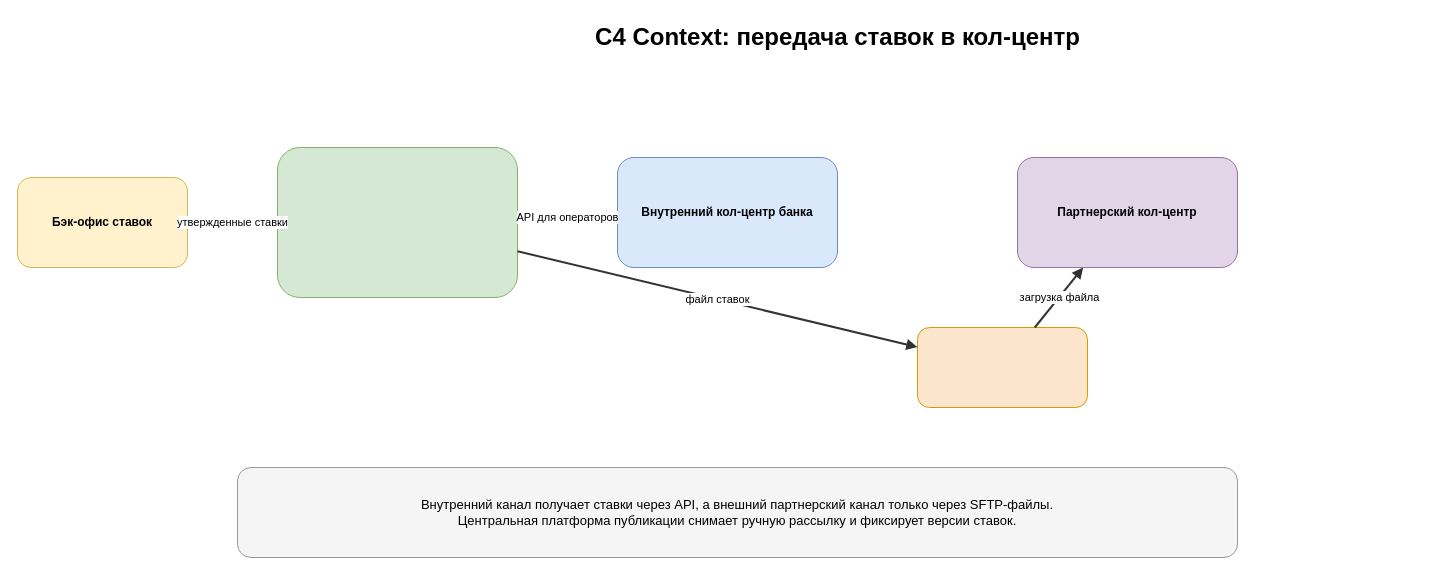
The diagram is 1455 pixels wide and 575 high, and some of its shapes have lost their labels. Each missing label, with the centre of its shape:
SFTP: the point at 1002,367
Платформа публикации ставок: the point at 397,222
